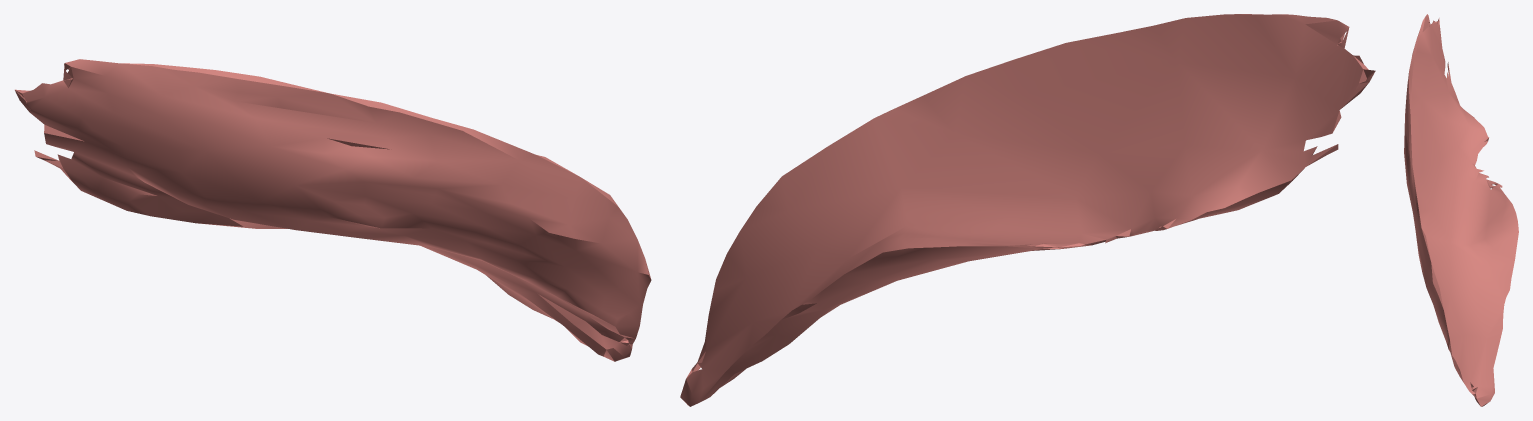
Rendered from fma46796_mm1087m.glb.
The picture shows the model from 3 angles, left to right: view 1: azimuth 30°, elevation 25°; view 2: azimuth 150°, elevation 25°; view 3: azimuth 270°, elevation 25°; orthographic projection. The views are drawn at different scales.
Parts seen in each view (by area): view 1: FMA46796_MM1087M; view 2: FMA46796_MM1087M; view 3: FMA46796_MM1087M.
Boxes of the visible parts, bbox=[...] form: FMA46796_MM1087M: bbox=[15, 59, 651, 361]; FMA46796_MM1087M: bbox=[680, 14, 1375, 406]; FMA46796_MM1087M: bbox=[1404, 14, 1518, 406].
Size of the model in its own units: 0.0244 by 0.0174 by 0.00739.
